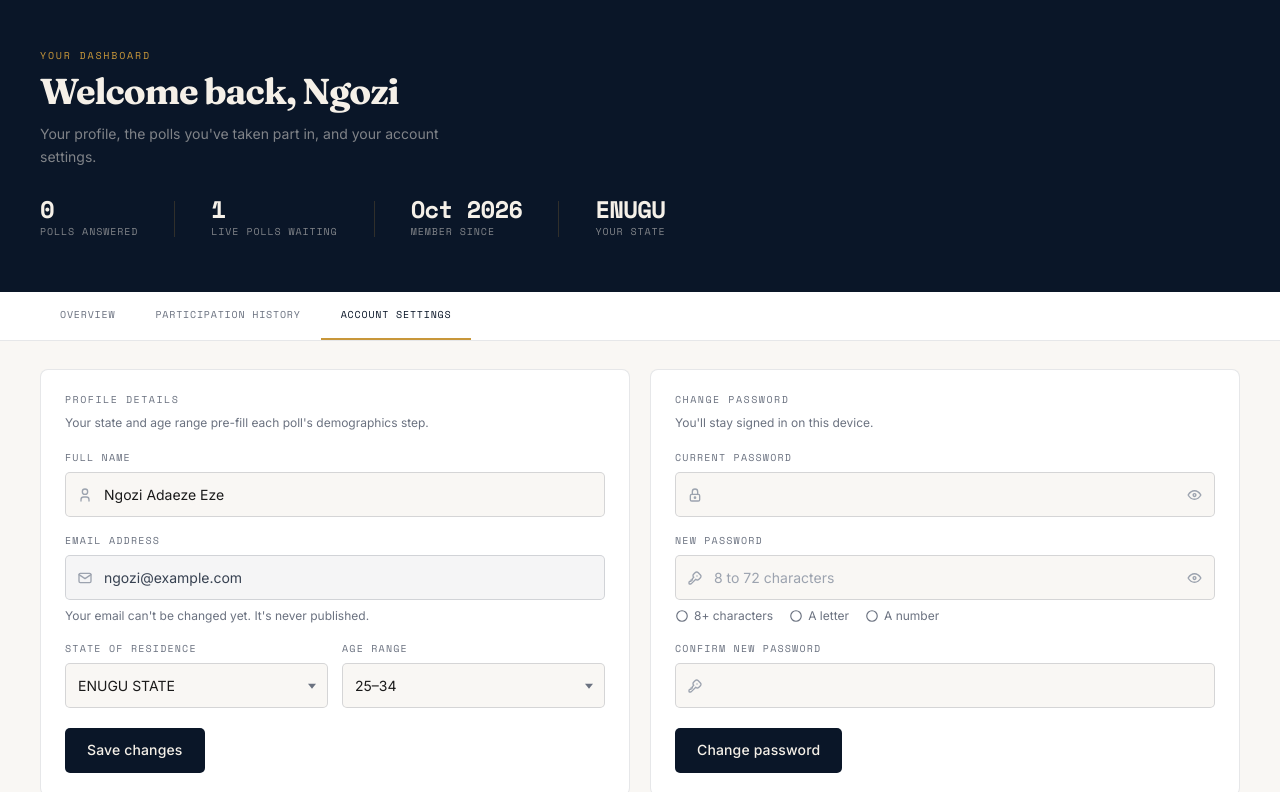
Scenario: change password › changes it and signs this browser back in for the browser session (D46)
Expected: the form named "Profile details" is shown, [65, 450, 605, 773]
Type "secret123" into the password field labelled "Current password" at (945, 495), box [675, 472, 1215, 517]
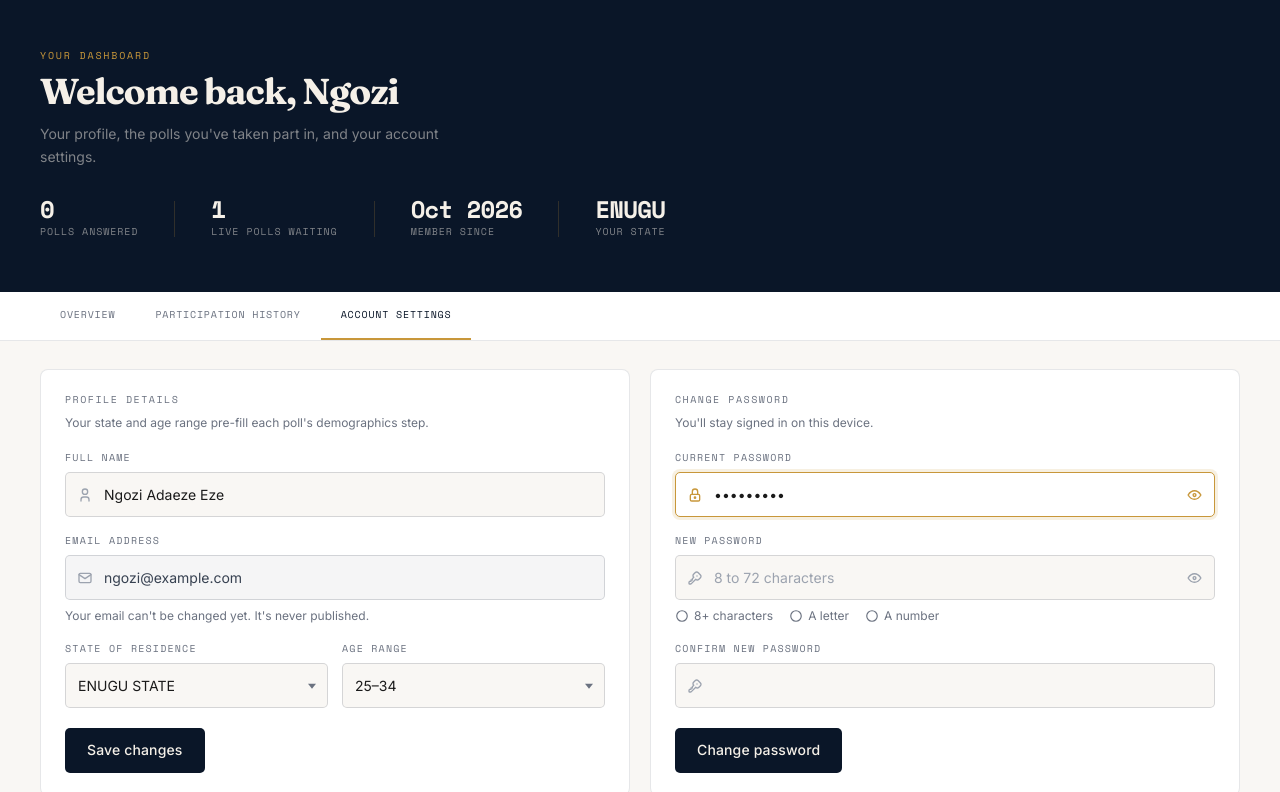
Type "newsecret1" into the password field labelled "New password" at (945, 578), box [675, 555, 1215, 600]
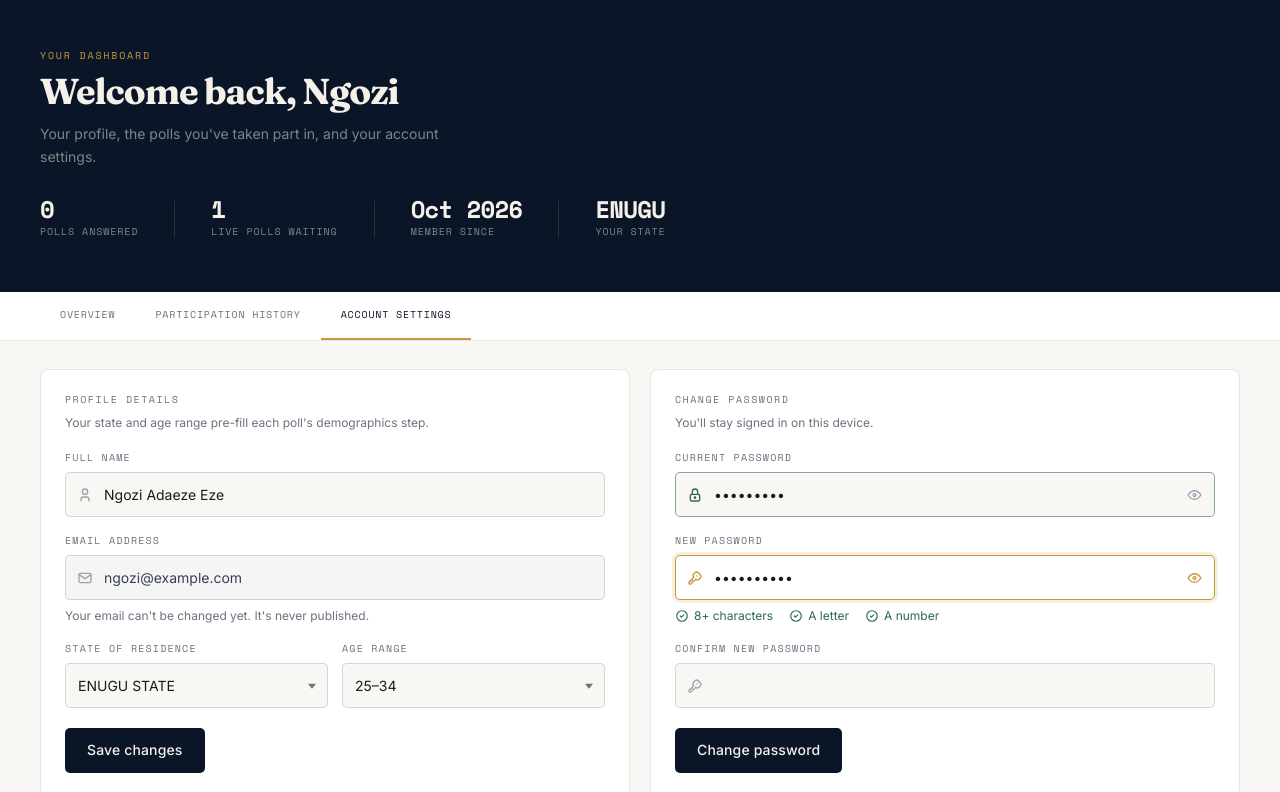
Type "newsecret1" into the password field labelled "Confirm new password" at (945, 686), box [675, 663, 1215, 708]
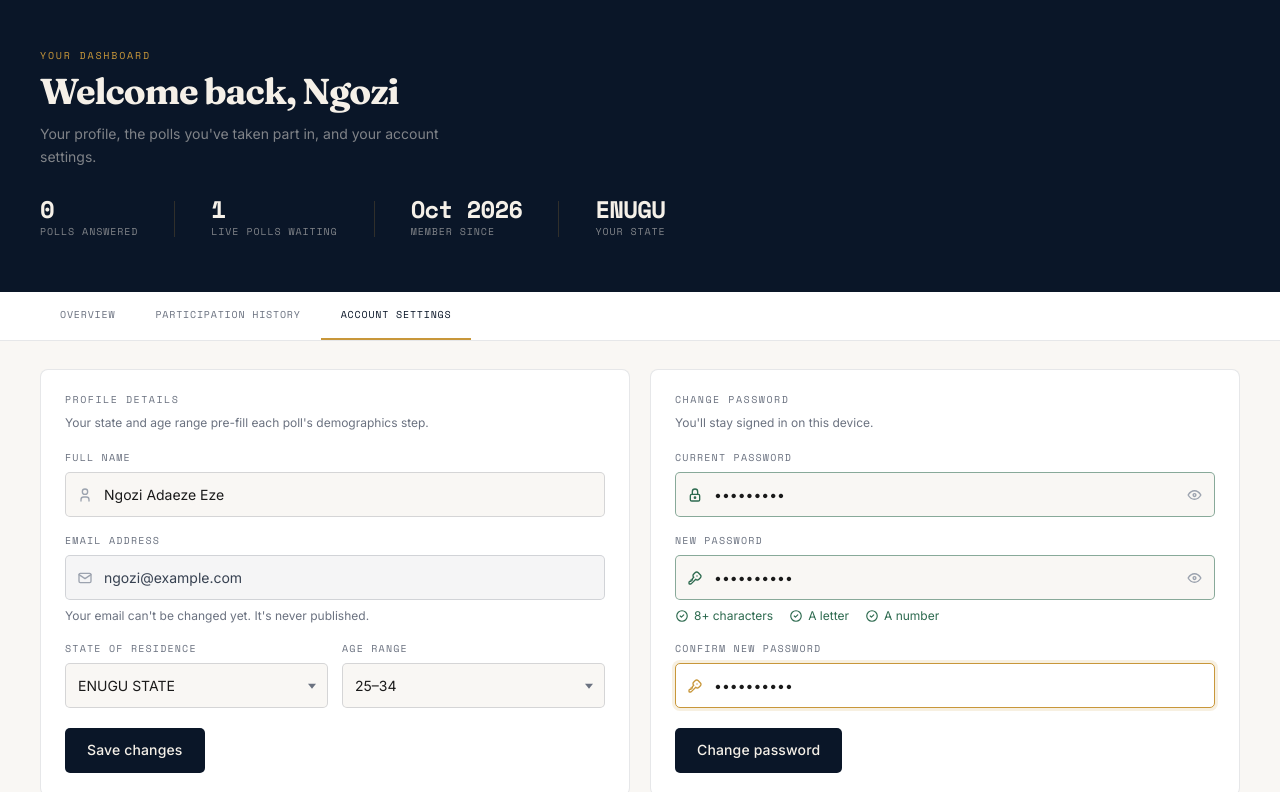
Click the button "Change password" at (759, 751), box [675, 728, 842, 773]
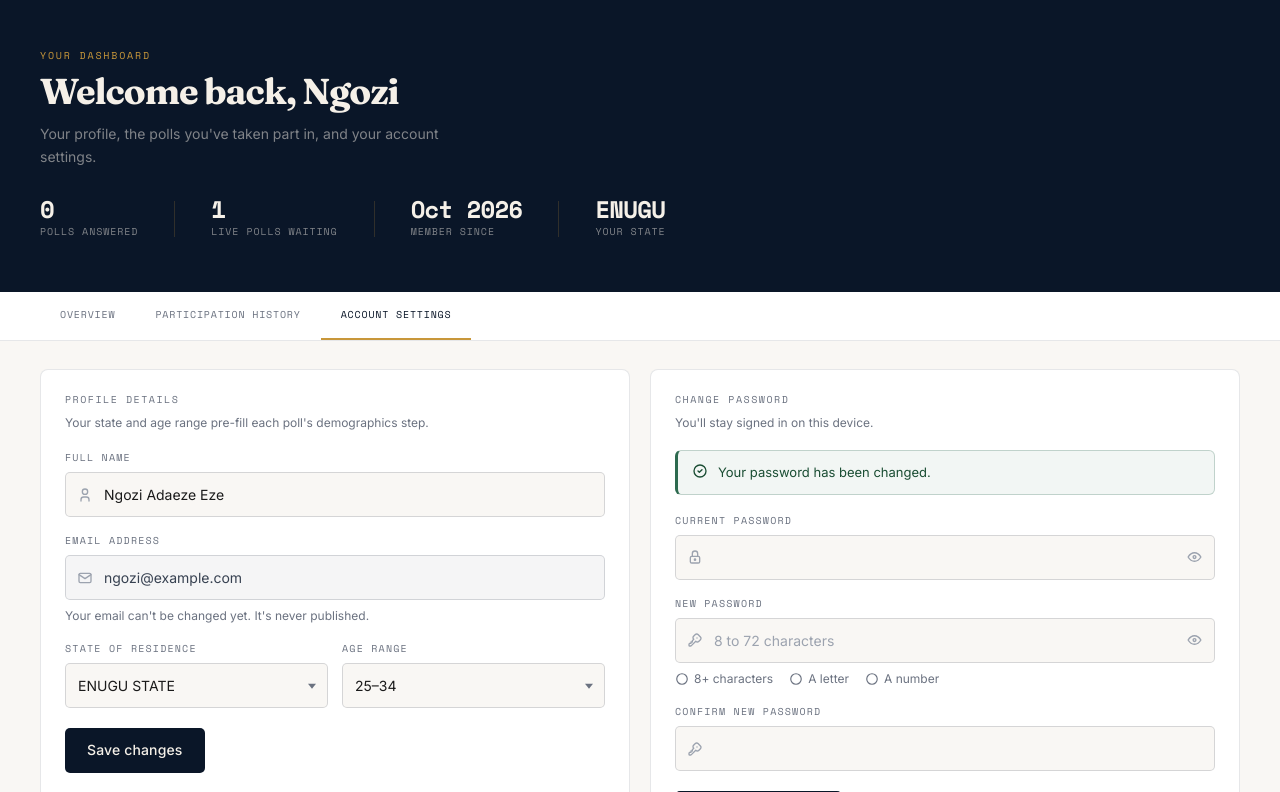
Expected: the heading "Welcome back, Ngozi" is shown, [40, 69, 398, 113]
Result: the text "Your password has been changed." is shown at [718, 462, 931, 483]
Result: the password field labelled "Current password" is empty at [675, 535, 1215, 580]
